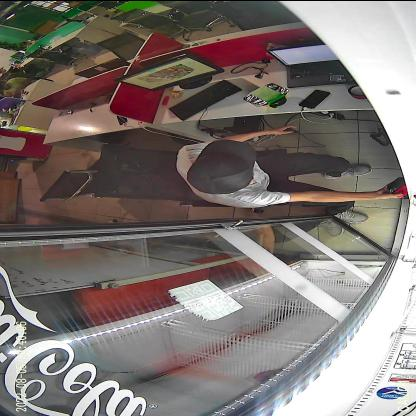red: (387, 176, 410, 198)
